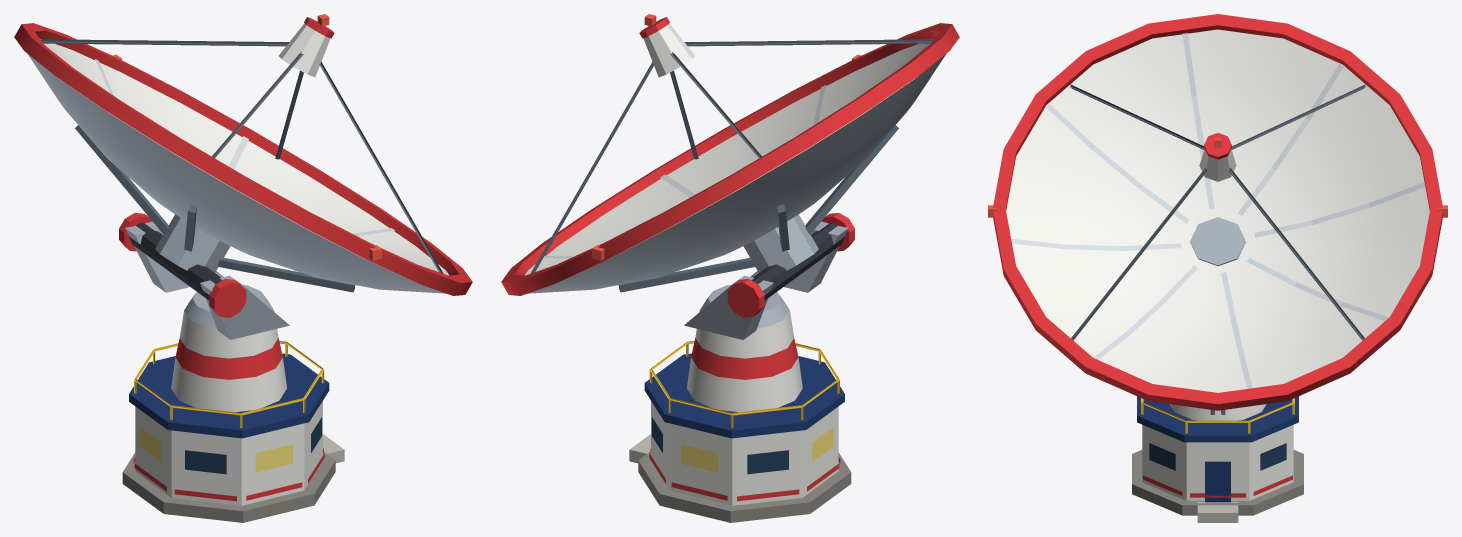
The model's file is satellite_dish.glb.
The picture shows the model from 3 angles, left to right: view 1: azimuth 30°, elevation 25°; view 2: azimuth 150°, elevation 25°; view 3: azimuth 270°, elevation 25°; orthographic projection. The views are drawn at different scales.
Parts seen in each view (by area): view 1: Body; view 2: Body; view 3: Body.
Boxes of the visible parts, <box> form: Body: <box>14,14,472,522</box>; Body: <box>501,14,959,522</box>; Body: <box>988,14,1447,522</box>.
Bounding box in the file's own units: 2.02 × 2.34 × 2.47.
